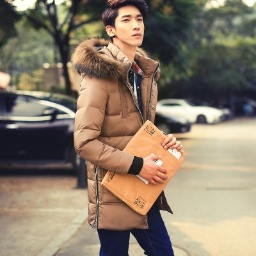face: (102, 1, 147, 48)
